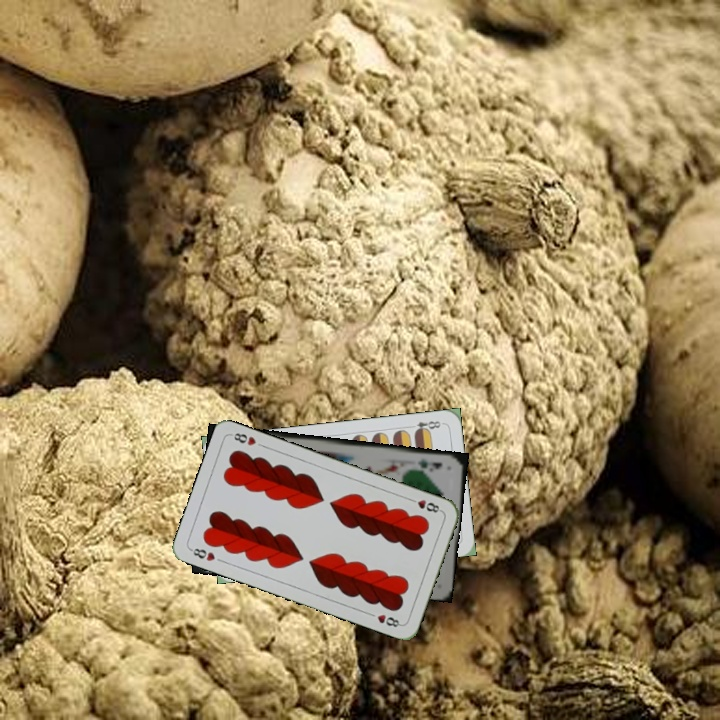E8: (405, 417, 445, 436)
GK: (414, 454, 444, 472)
H8: (405, 494, 444, 515), (186, 544, 218, 564)
